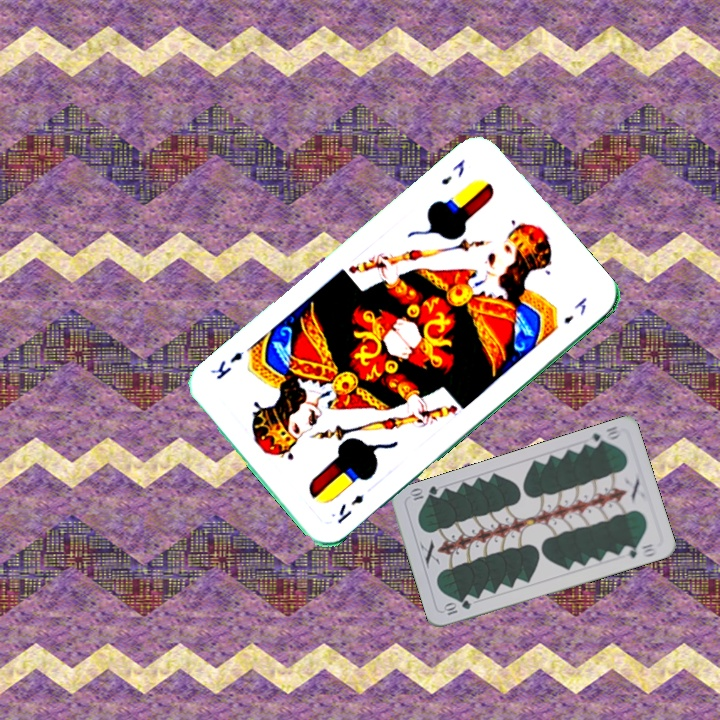EK: (333, 490, 367, 526), (437, 155, 468, 188)
G10: (584, 422, 624, 450), (440, 596, 474, 618)
